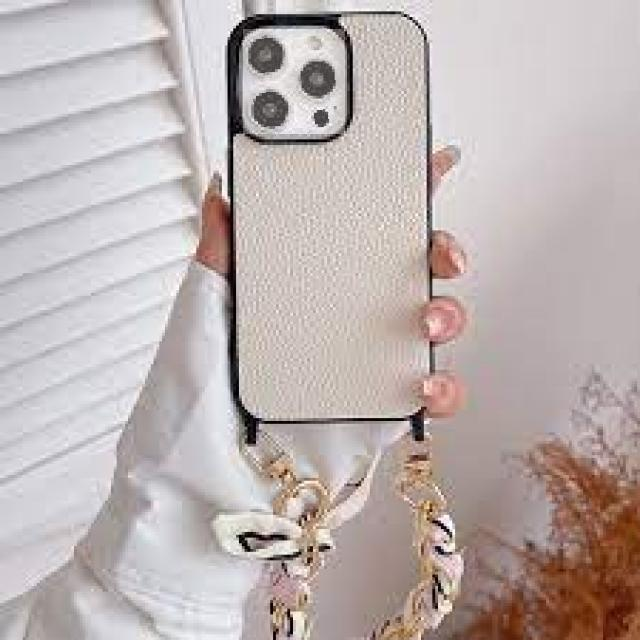lens: (248, 33, 342, 131)
phone: (224, 10, 439, 431)
